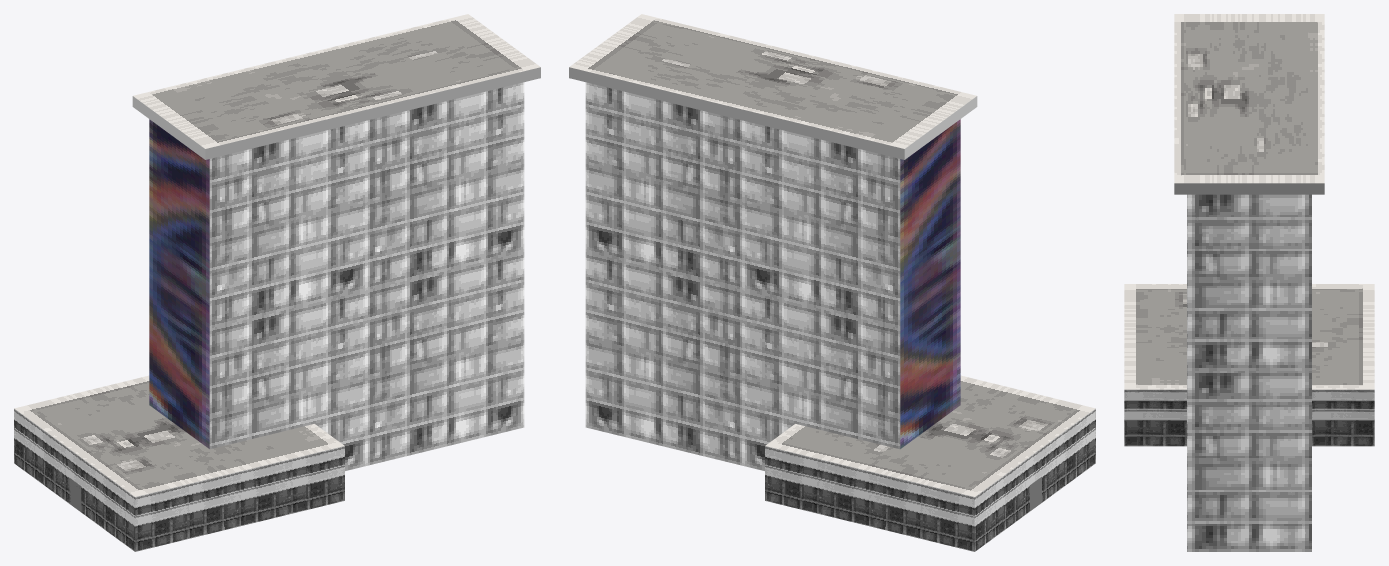
Rendered from uvmd-0061.glb.
The picture shows the model from 3 angles, left to right: view 1: azimuth 30°, elevation 25°; view 2: azimuth 150°, elevation 25°; view 3: azimuth 270°, elevation 25°; orthographic projection. The views are drawn at different scales.
Parts seen in each view (by area): view 1: uvmd-0061; view 2: uvmd-0061; view 3: uvmd-0061.
Part boxes in pixels (x1,y1,x2,y2): uvmd-0061: [14, 14, 540, 551]; uvmd-0061: [569, 14, 1095, 551]; uvmd-0061: [1124, 14, 1374, 551].
Size of the model in its own units: 410 by 330 by 200.
5 materials, 5 textured.
